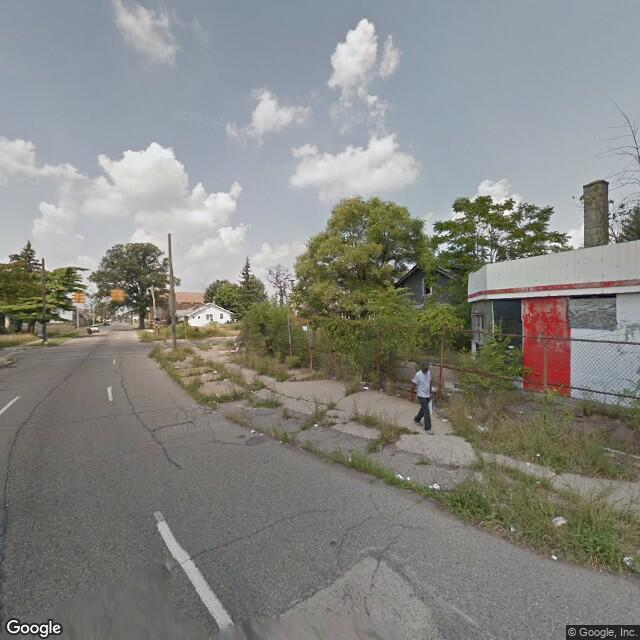litter: (625, 552, 636, 577), (550, 515, 567, 529), (397, 469, 411, 481), (547, 554, 562, 562), (222, 346, 238, 353), (441, 414, 453, 423), (218, 376, 230, 384), (507, 527, 520, 534), (358, 385, 371, 392), (465, 413, 480, 418), (346, 458, 355, 466), (248, 428, 261, 433), (531, 453, 544, 458), (432, 483, 442, 489), (478, 427, 487, 433), (213, 368, 221, 374), (312, 423, 320, 428), (525, 463, 532, 468)
